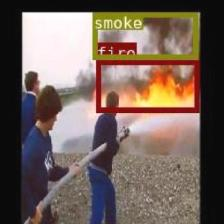fire: (95, 59, 198, 111)
smoke: (92, 12, 197, 58)
